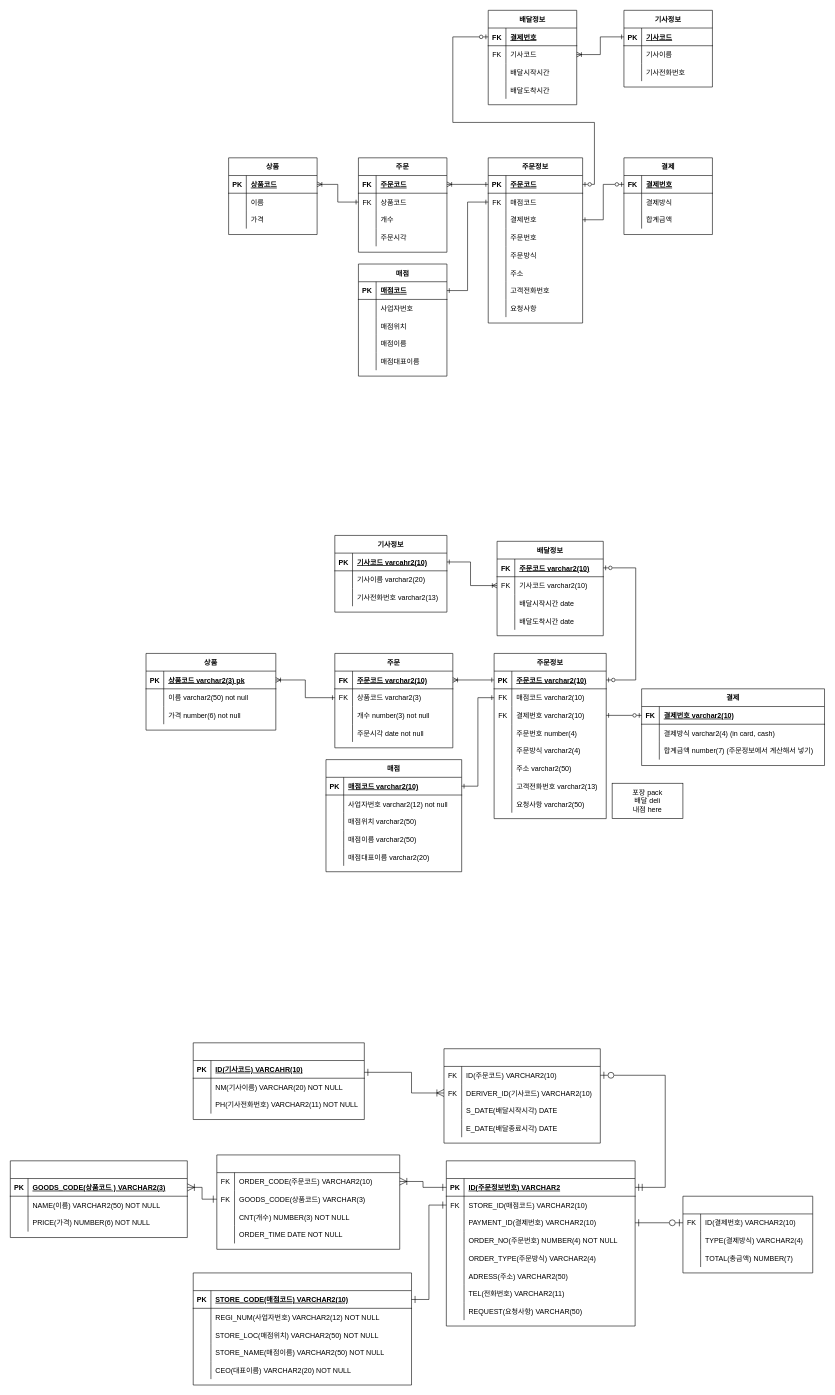
This 835x1395 diagram has some shape labels left out. Each missing label, with the box of its shape:
DELIVERY_INFO(배달정보): (443, 1048, 600, 1143)
DRIVER(배달기사): (193, 1042, 364, 1120)
GOODS (상품): (10, 1160, 187, 1238)
ORDER_BHC(상품주문): (216, 1154, 400, 1249)
ORDER_INFO(주문정보): (446, 1160, 635, 1326)
PAYMENT(결제): (682, 1196, 813, 1273)
STORE(매점): (193, 1272, 412, 1385)
